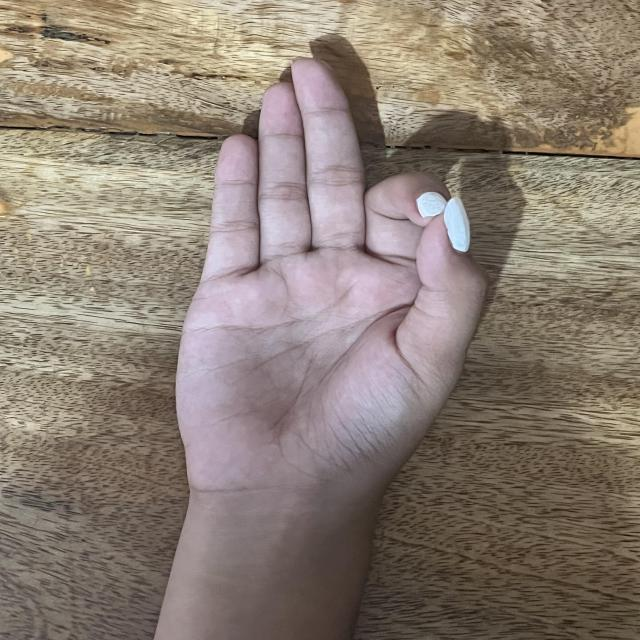F: (172, 57, 491, 487)
